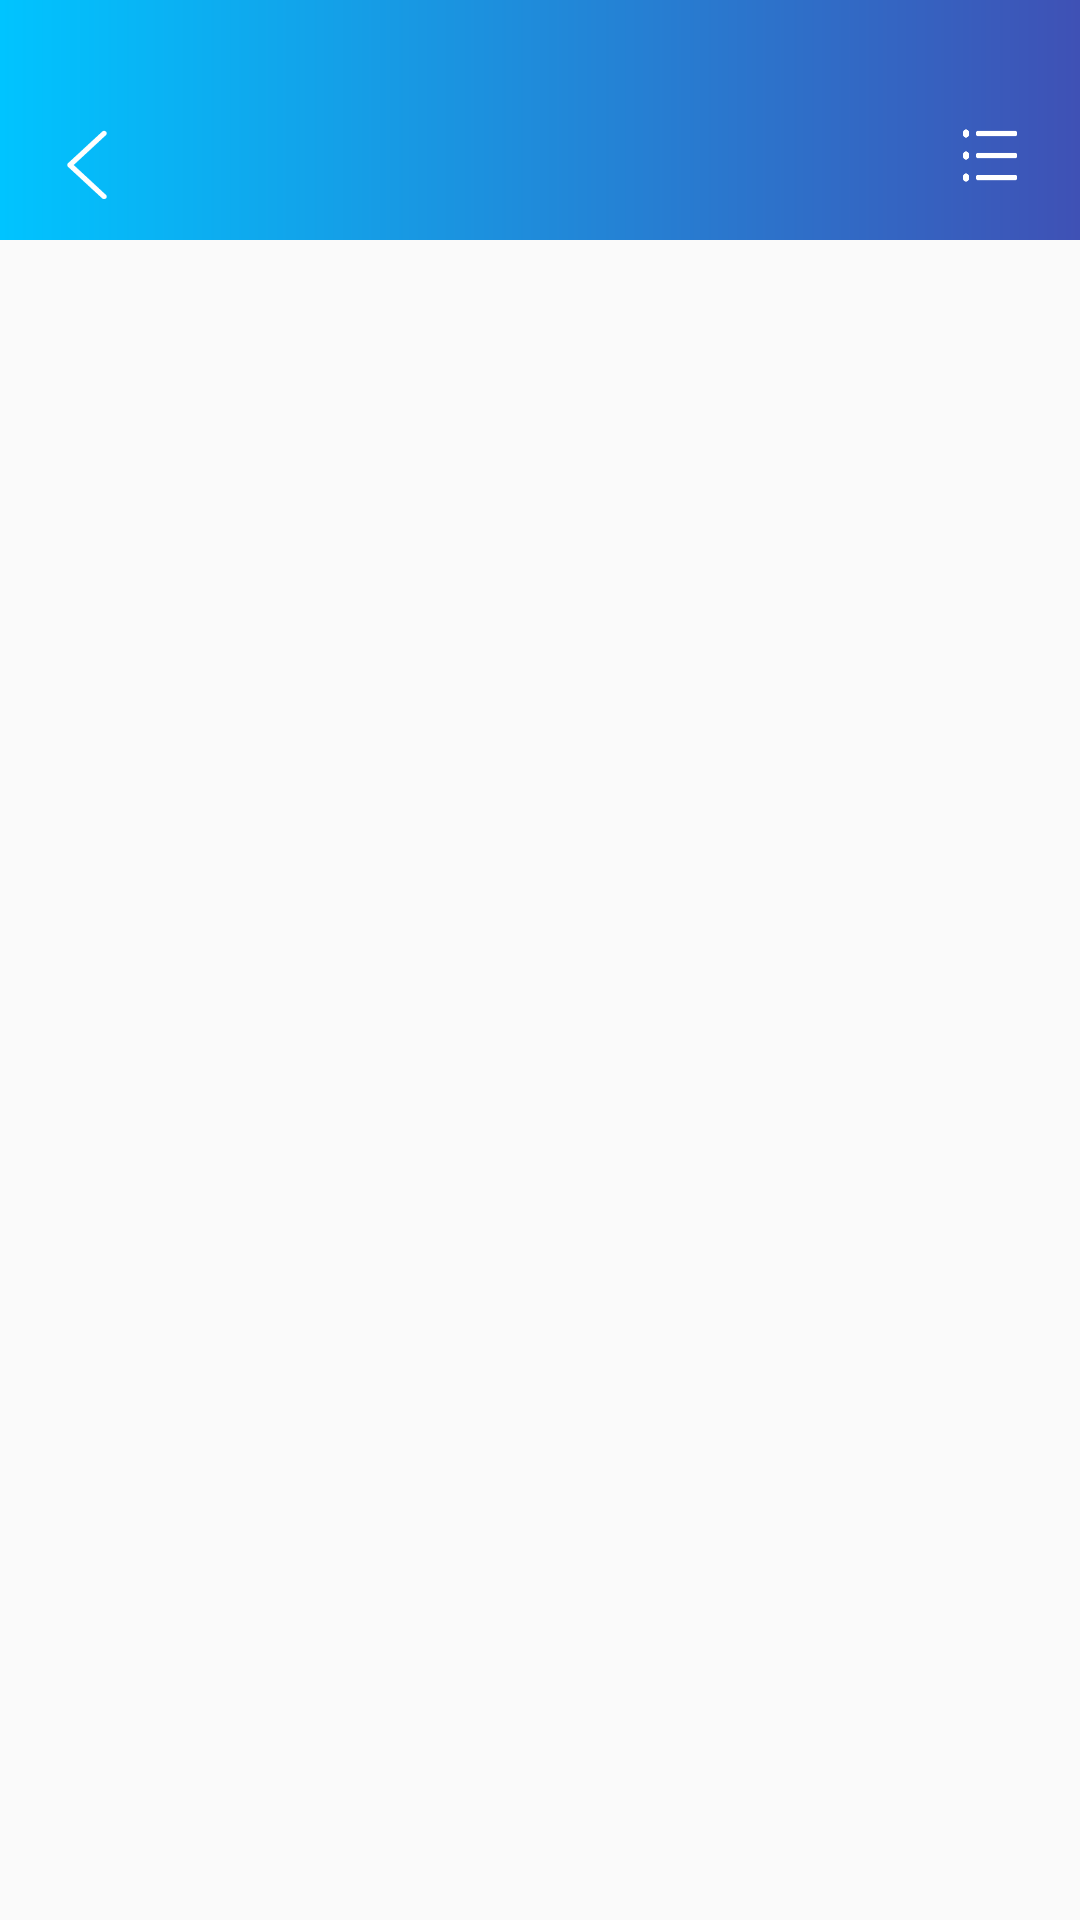

Where icons sit on this 1080 × 1920 app screen, as [left=x1, top=y1, right=x2, bottom=y2]:
back: [left=67, top=130, right=107, bottom=199]
